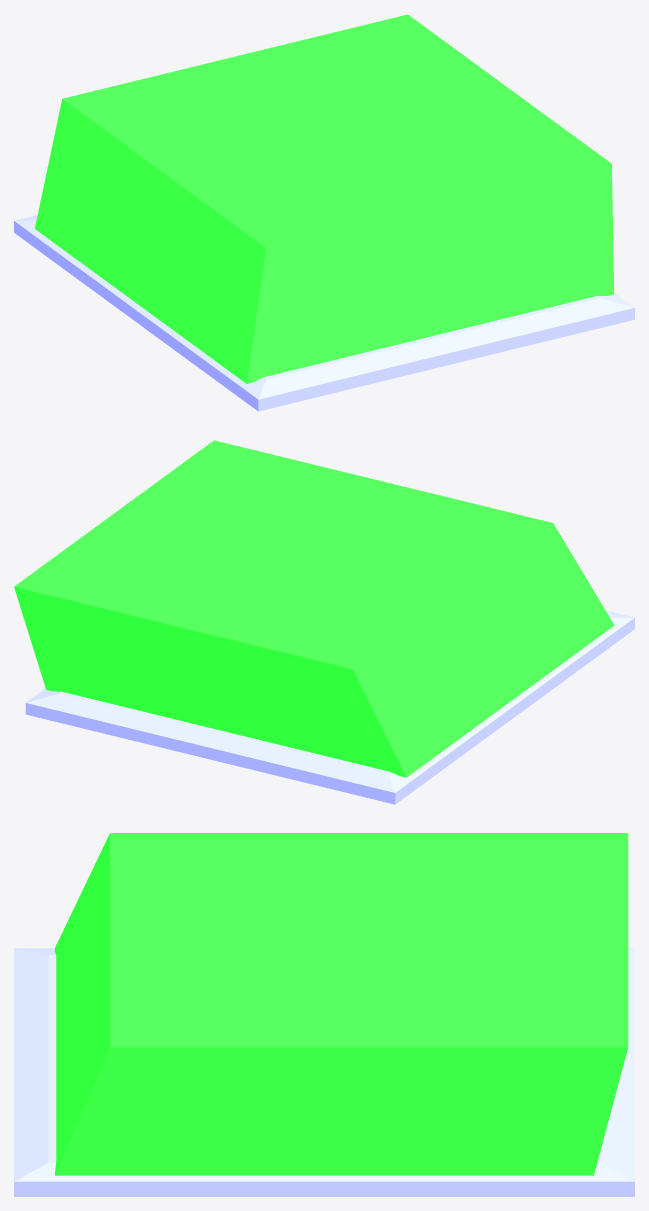
3 views of the same model, one above another, from view 1: azimuth 30°, elevation 25°; view 2: azimuth 150°, elevation 25°; view 3: azimuth 270°, elevation 25° (orthographic). The views are drawn at different scales.
Parts seen in each view (by area): view 1: BaseLandingZone, Base; view 2: BaseLandingZone, Base; view 3: BaseLandingZone, Base.
Boxes of the visible parts, x1,y1,x2,y2 form: BaseLandingZone: (35,14,614,383); Base: (14,215,634,411); BaseLandingZone: (14,440,614,777); Base: (25,610,634,804); BaseLandingZone: (55,833,628,1175); Base: (14,948,634,1196).
Bounding box in the file's own units: 68.87 × 20.98 × 74.51.
